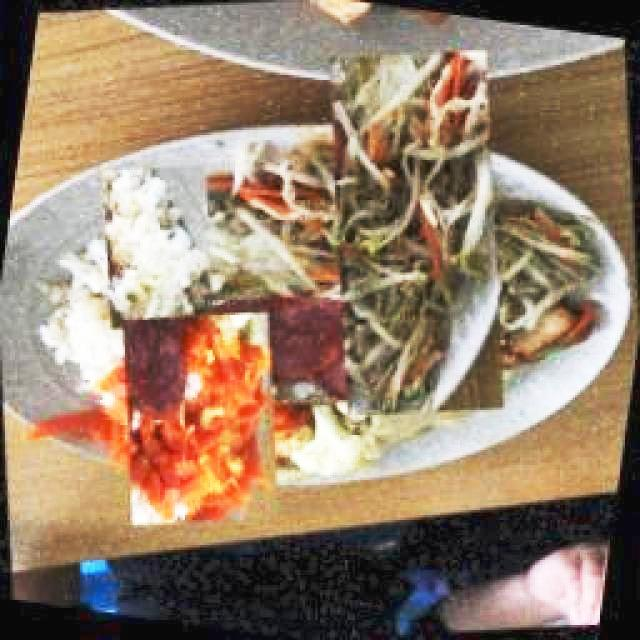carrot_eggs: (121, 314, 277, 523)
chinese_sausage: (230, 297, 344, 398), (123, 320, 190, 420)
mung_bean_sprouts: (332, 55, 492, 410), (489, 193, 609, 356), (228, 140, 339, 290)
rice: (40, 171, 199, 319), (42, 292, 122, 362)
